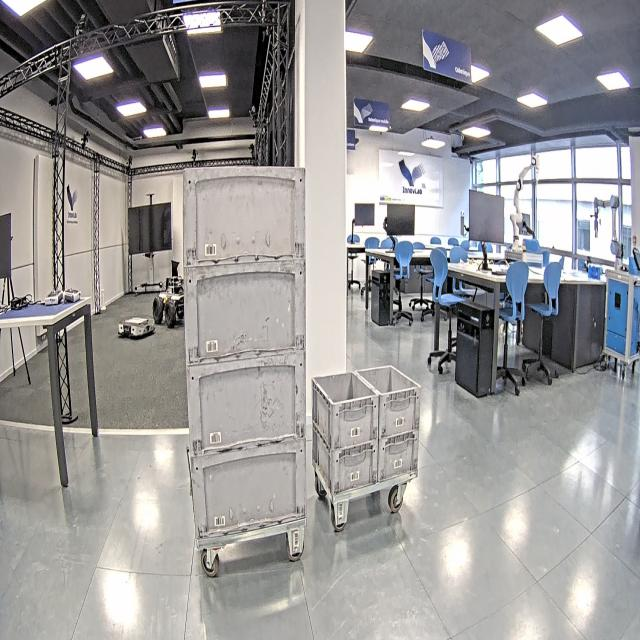Box4G: (186, 354, 305, 456), (184, 260, 306, 357), (182, 169, 306, 259), (188, 443, 305, 535)
Box8G: (312, 380, 377, 439), (312, 437, 377, 492), (374, 371, 420, 429), (378, 429, 418, 477)
